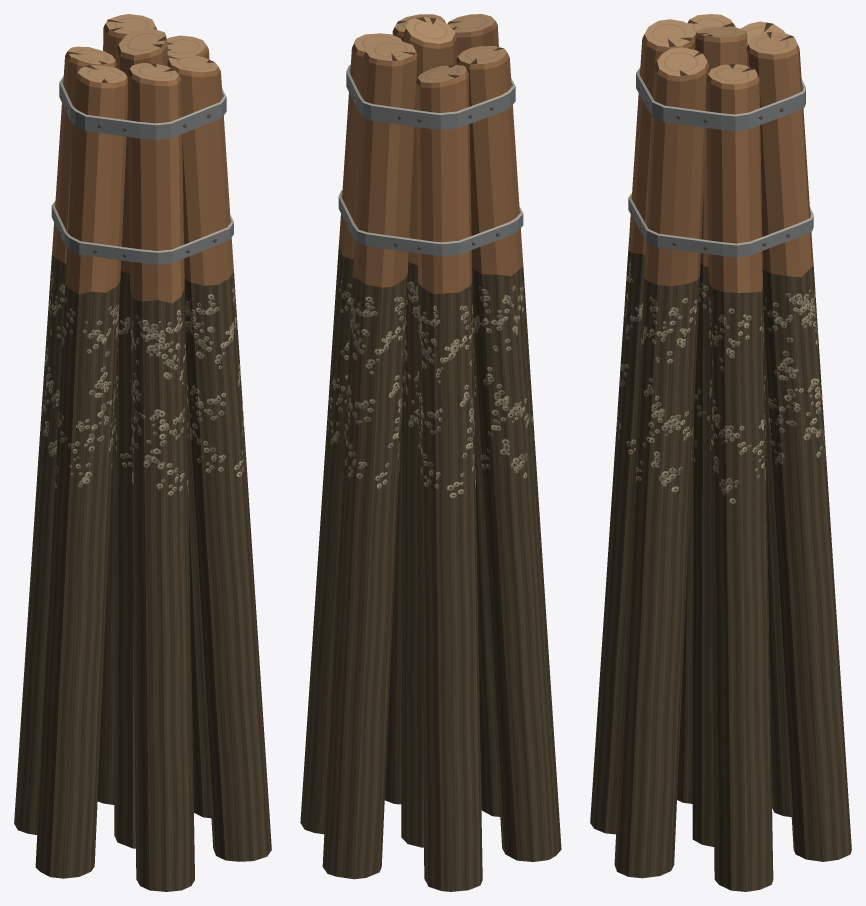
File: timber_dolphin_large.glb
3 renders of one model, left to right at view 1: azimuth 30°, elevation 25°; view 2: azimuth 150°, elevation 25°; view 3: azimuth 270°, elevation 25°, orthographic.
Parts seen in each view (by area): view 1: large timber 5, large timber 4, large timber 6, large timber 3, Heart pile, large timber 2, large timber 1, Rolled steel binding.003, Rolled steel binding.002; view 2: large timber 2, large timber 3, large timber 4, large timber 1, Heart pile, large timber 5, large timber 6, Rolled steel binding.003, Rolled steel binding.002; view 3: large timber 6, large timber 1, large timber 2, large timber 5, Heart pile, large timber 3, large timber 4, Rolled steel binding.003, Rolled steel binding.002.
Part boxes in pixels (x1,y1,x2,y2): large timber 5: (127, 63, 194, 891); large timber 4: (35, 65, 127, 878); large timber 6: (167, 54, 271, 861); large timber 3: (14, 46, 116, 834); Heart pile: (114, 28, 167, 848); large timber 2: (97, 14, 156, 804); large timber 1: (167, 35, 211, 818); Rolled steel binding.003: (59, 76, 226, 139); Rolled steel binding.002: (51, 200, 233, 264); large timber 2: (322, 40, 417, 879); large timber 3: (416, 65, 482, 891); large timber 4: (456, 46, 561, 861); large timber 1: (300, 33, 402, 834); Heart pile: (401, 17, 457, 847); large timber 5: (447, 14, 500, 816); large timber 6: (384, 14, 445, 804); Rolled steel binding.003: (346, 65, 515, 129); Rolled steel binding.002: (338, 190, 523, 255); large timber 6: (614, 47, 709, 878); large timber 1: (706, 63, 773, 891); large timber 2: (746, 32, 851, 861); large timber 5: (590, 19, 695, 834); Heart pile: (692, 26, 747, 846); large timber 3: (740, 21, 791, 816); large timber 4: (677, 14, 735, 803); Rolled steel binding.003: (636, 67, 805, 131); Rolled steel binding.002: (628, 193, 813, 257).
Size of the model in its own units: 3.78 by 12.74 by 3.74.
14 materials, 1 textured.
